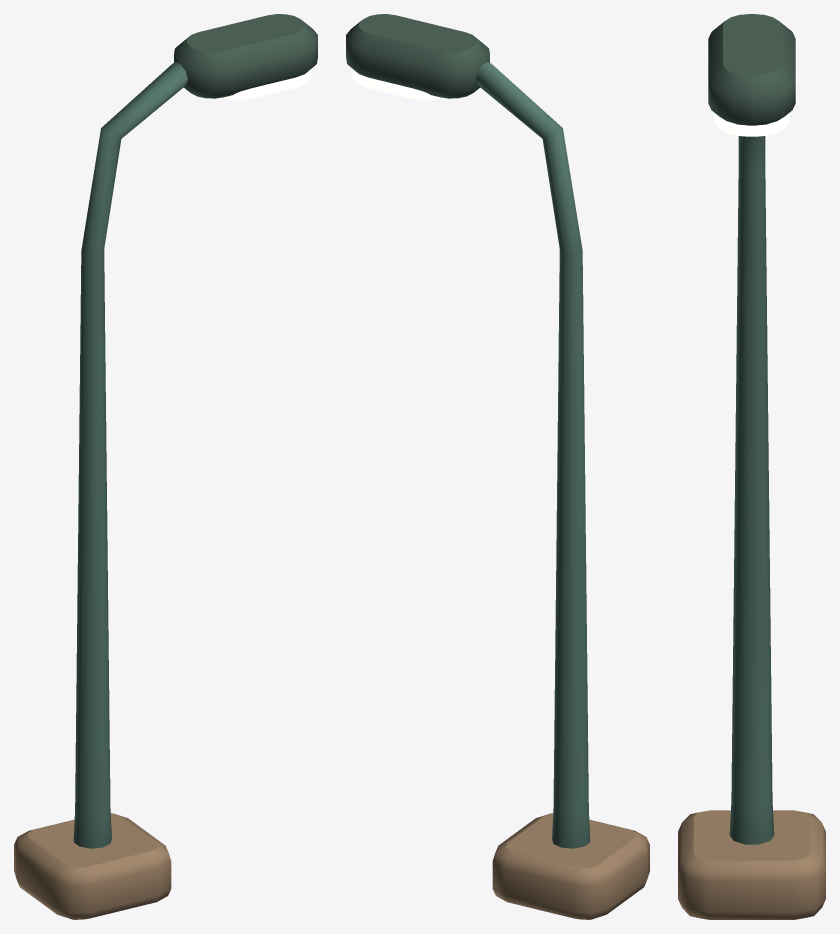
Rendered from highway_lamp.glb.
The picture shows the model from 3 angles, left to right: view 1: azimuth 30°, elevation 25°; view 2: azimuth 150°, elevation 25°; view 3: azimuth 270°, elevation 25°; orthographic projection. The views are drawn at different scales.
Visible parts, largest first — view 1: HighwayLamp; view 2: HighwayLamp; view 3: HighwayLamp.
Part boxes in pixels (<box>): HighwayLamp: <box>14,14,317,919</box>; HighwayLamp: <box>346,14,649,919</box>; HighwayLamp: <box>678,14,825,919</box>.
Size of the model in its own units: 1.5 by 4.26 by 0.61.
